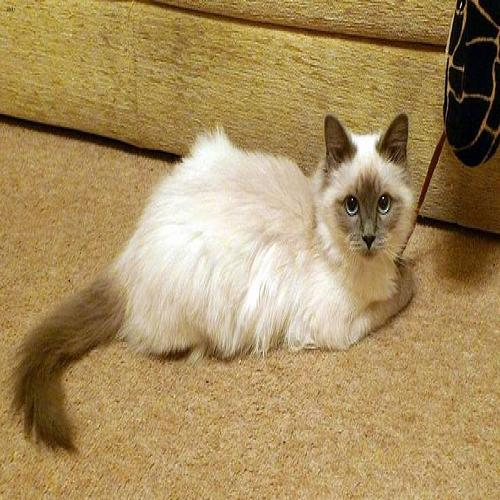ragdoll: (314, 98, 421, 272)
